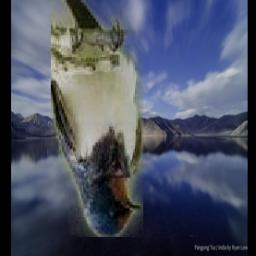Swallow: (51, 0, 143, 237)
